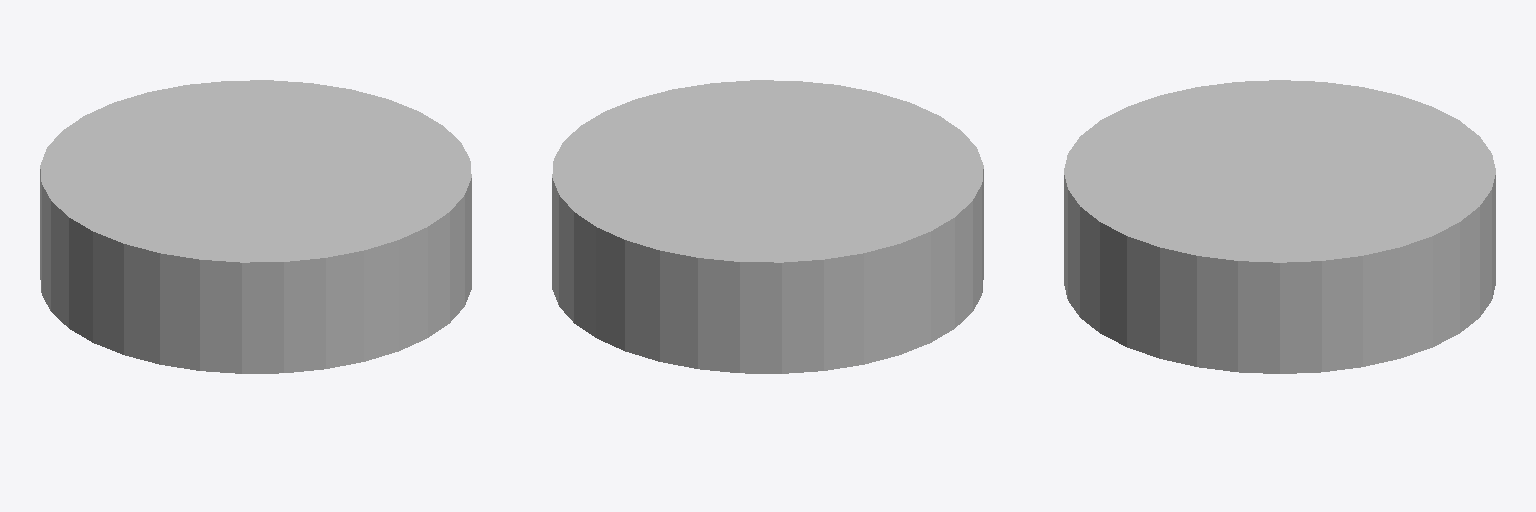
File: heatmap.obj
The picture shows the model from 3 angles: view 1: azimuth 30°, elevation 25°; view 2: azimuth 150°, elevation 25°; view 3: azimuth 270°, elevation 25°; orthographic projection.
Visible parts, largest first — view 1: Cylinder.002; view 2: Cylinder.002; view 3: Cylinder.002.
Boxes of the visible parts, <box> form: Cylinder.002: <box>40,80,471,373</box>; Cylinder.002: <box>552,80,983,373</box>; Cylinder.002: <box>1064,80,1495,373</box>.
Bounding box in the file's own units: 1.9 × 0.82 × 1.9.